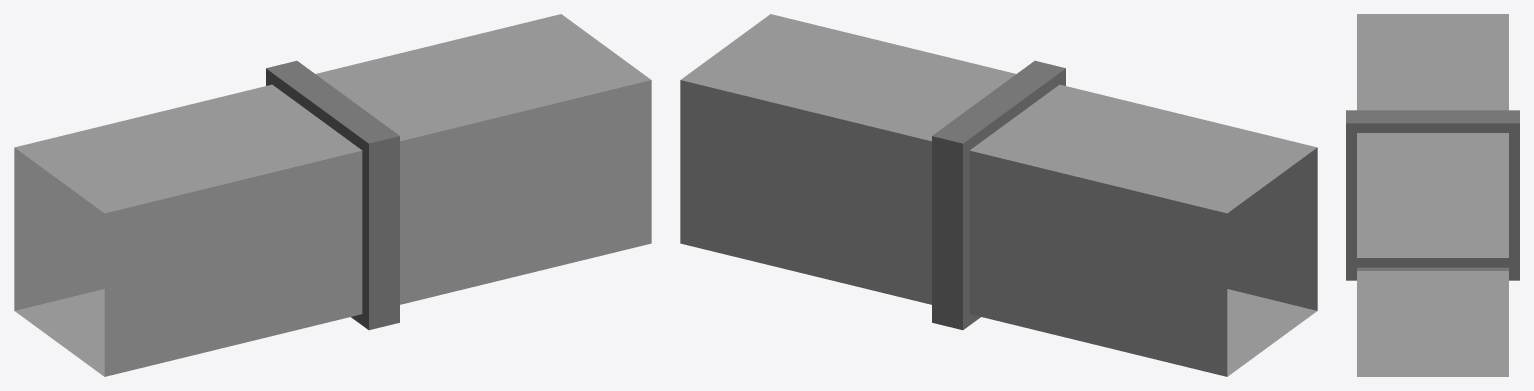
File: M_RoofVent01.fbx
The picture shows the model from 3 angles, left to right: view 1: azimuth 30°, elevation 25°; view 2: azimuth 150°, elevation 25°; view 3: azimuth 270°, elevation 25°; orthographic projection. The views are drawn at different scales.
Visible parts, largest first — view 1: M_RoofVent01; view 2: M_RoofVent01; view 3: M_RoofVent01.
Part boxes in pixels (left/top/right/bottom): M_RoofVent01: left=14, top=14, right=651, bottom=376; M_RoofVent01: left=680, top=14, right=1317, bottom=376; M_RoofVent01: left=1346, top=14, right=1519, bottom=376.
Size of what is drawn, in the model's own units: 350 by 114 by 114.
